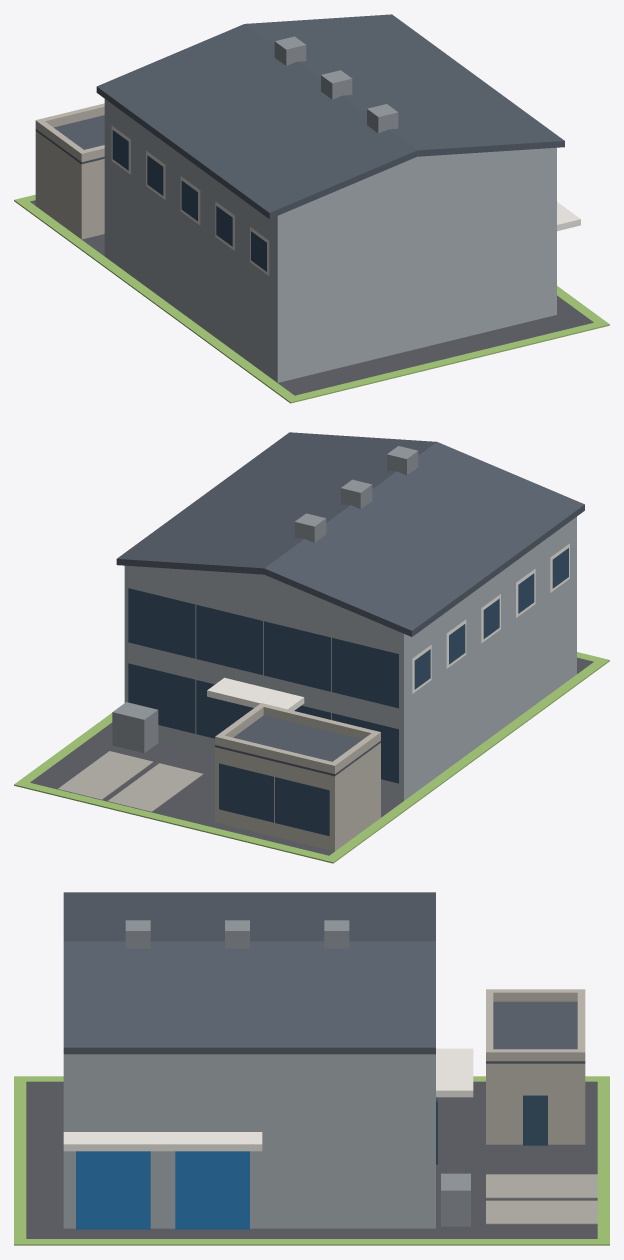
3 views of the same model, one above another, from view 1: azimuth 30°, elevation 25°; view 2: azimuth 150°, elevation 25°; view 3: azimuth 270°, elevation 25° (orthographic). The views are drawn at different scales.
Visible parts, largest first — view 1: wall, roof (×3), asphalt, lawn (×2), office, gable, roof_vent (×3), parapet (×2); view 2: roof (×3), wall, window_band (×9), office, asphalt, lawn (×3), parking_bay (×2), gable, parapet (×3), roof_vent (×3), transformer, canopy; view 3: roof (×3), wall, asphalt, garage_door (×2), lawn (×3), office, canopy (×2), parking_bay (×2), parapet (×4), roof_vent (×3), transformer, door.
Boxes of the visible parts, x1,y1,x2,y2 form: wall: [104, 99, 556, 382]; roof (×3): [35, 14, 564, 219]; asphalt: [30, 200, 593, 395]; lawn (×2): [19, 201, 609, 403]; office: [35, 131, 104, 239]; gable: [279, 147, 556, 215]; roof_vent (×3): [274, 36, 398, 133]; parapet (×2): [35, 103, 104, 159]; roof (×3): [116, 432, 584, 776]; wall: [124, 517, 576, 800]; window_band (×9): [128, 588, 398, 836]; office: [215, 743, 380, 851]; asphalt: [30, 657, 593, 855]; lawn (×3): [14, 661, 604, 863]; parking_bay (×2): [57, 751, 203, 812]; gable: [125, 565, 402, 633]; parapet (×3): [215, 703, 380, 773]; roof_vent (×3): [294, 446, 418, 542]; transformer: [112, 702, 158, 753]; canopy: [207, 677, 304, 710]; roof (×3): [63, 892, 585, 1063]; wall: [63, 1054, 435, 1228]; asphalt: [26, 1081, 597, 1238]; garage_door (×2): [76, 1151, 249, 1229]; lawn (×3): [14, 1076, 609, 1245]; office: [486, 1063, 585, 1144]; canopy (×2): [63, 1048, 473, 1151]; parking_bay (×2): [486, 1174, 597, 1224]; parapet (×4): [486, 989, 585, 1061]; roof_vent (×3): [125, 920, 349, 948]; transformer: [441, 1173, 470, 1226]; door: [523, 1095, 547, 1145].
Bounding box in the file's own units: 16 × 10.26 × 24.
